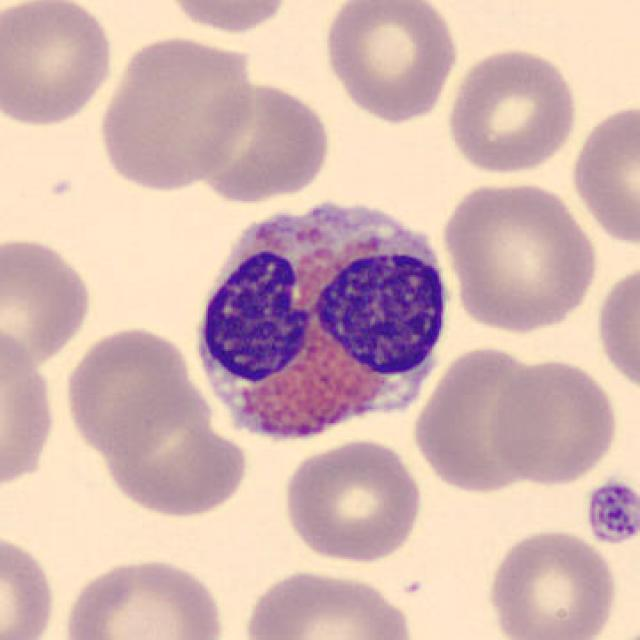Eosinophil: (185, 182, 459, 460)
Platelets: (583, 478, 638, 550)
RBC: (92, 32, 258, 194), (441, 176, 601, 335), (409, 342, 558, 497), (105, 380, 249, 520), (59, 322, 202, 458), (279, 436, 427, 564), (186, 76, 332, 204), (486, 354, 622, 488), (443, 44, 581, 176), (318, 0, 462, 125), (481, 523, 622, 640), (0, 0, 117, 130), (56, 553, 229, 640), (0, 231, 96, 372), (238, 566, 420, 640), (0, 317, 59, 499), (567, 99, 638, 248), (0, 527, 59, 640), (592, 256, 638, 400), (155, 0, 297, 37)
